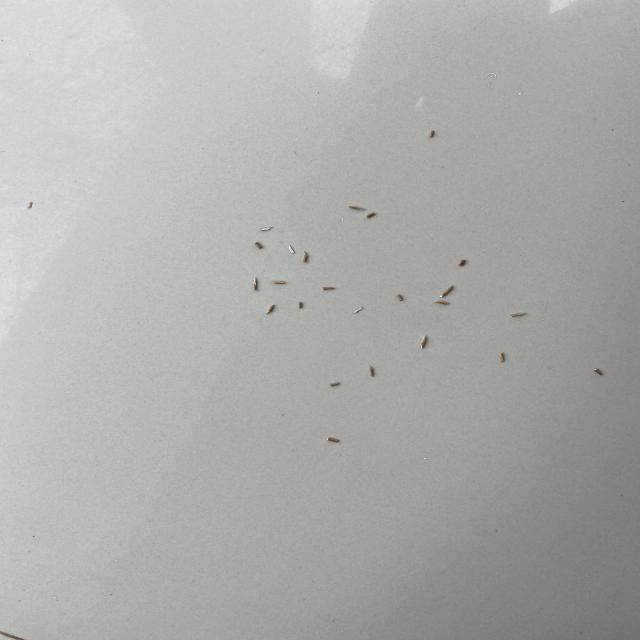Wereng: (496, 349, 511, 372), (436, 284, 456, 300), (418, 332, 434, 352), (250, 278, 268, 294), (590, 364, 608, 380), (455, 256, 474, 271), (328, 376, 345, 391), (262, 302, 280, 316), (432, 298, 453, 310), (345, 203, 370, 213), (426, 128, 446, 140), (302, 247, 314, 267), (392, 292, 408, 307), (511, 307, 526, 323), (351, 303, 368, 317), (367, 364, 382, 379), (253, 239, 269, 252), (284, 243, 300, 255), (294, 298, 307, 312), (328, 434, 343, 446), (314, 285, 343, 291), (257, 224, 276, 233), (273, 277, 289, 287), (365, 212, 381, 221), (23, 200, 37, 210)
